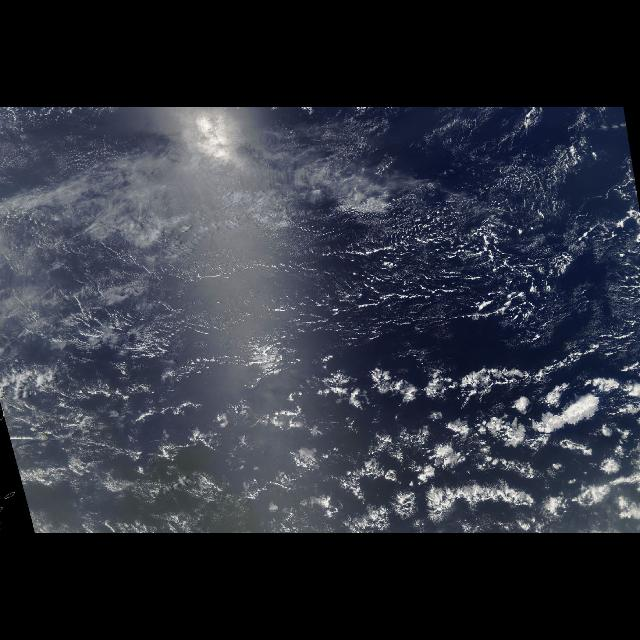Flower: (252, 372, 634, 478)
Gravel: (300, 187, 630, 533)
Sugar: (16, 216, 364, 366)
